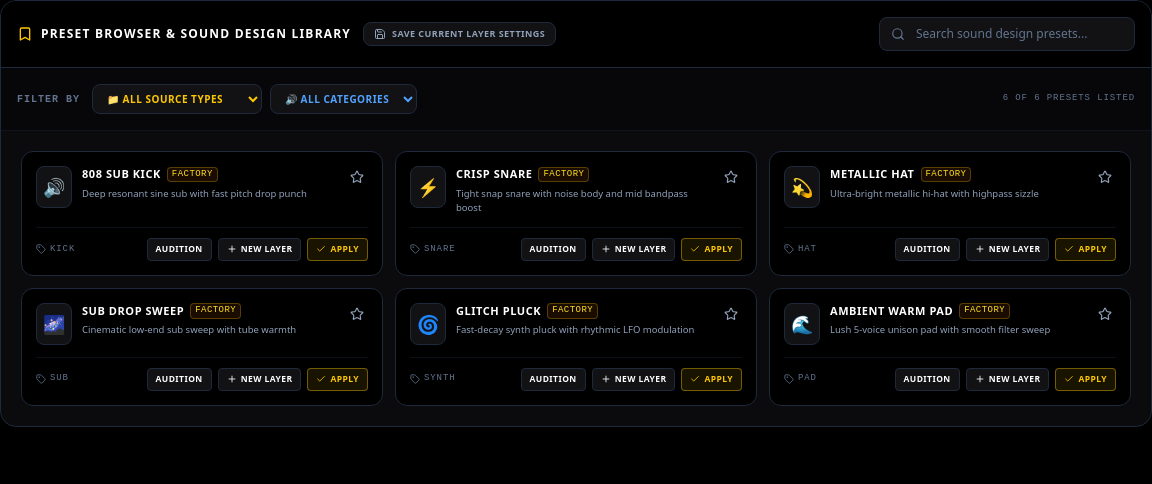
Test case: LayerPresetBrowser audition › reverts an audition by restoring the snapshot
Click the button "Audition" below "808 Sub Kick" at coordinates (179, 249), box [146, 238, 212, 261]
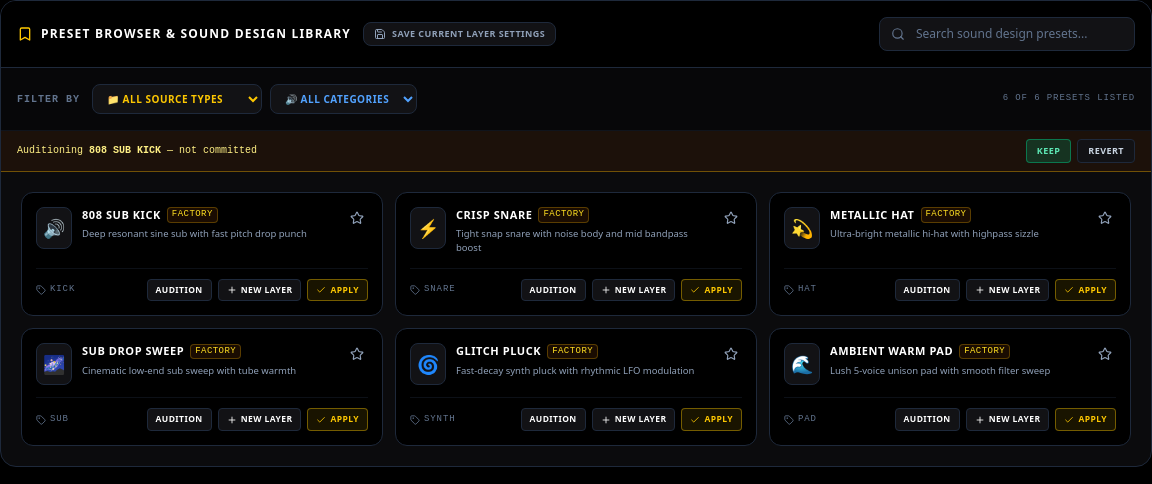
Click the button "Revert" at coordinates (1106, 151), box [1077, 139, 1135, 162]
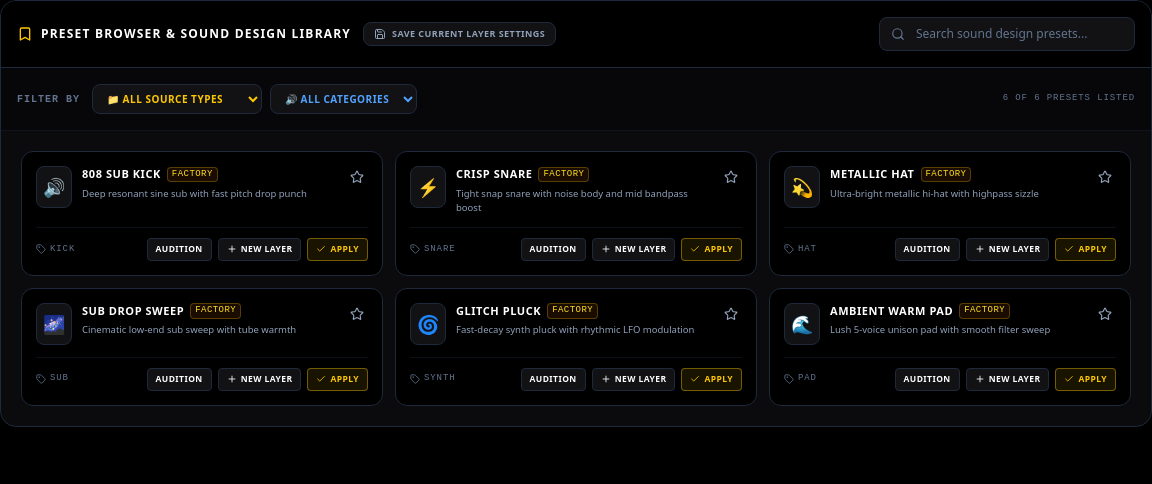
Result: the text "not committed" is gone
